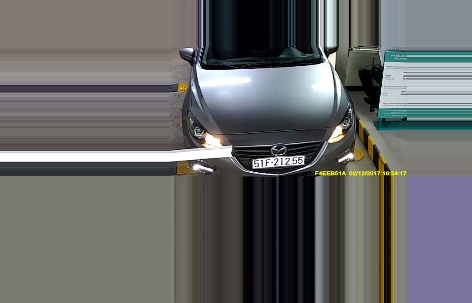plate: (249, 153, 306, 172)
